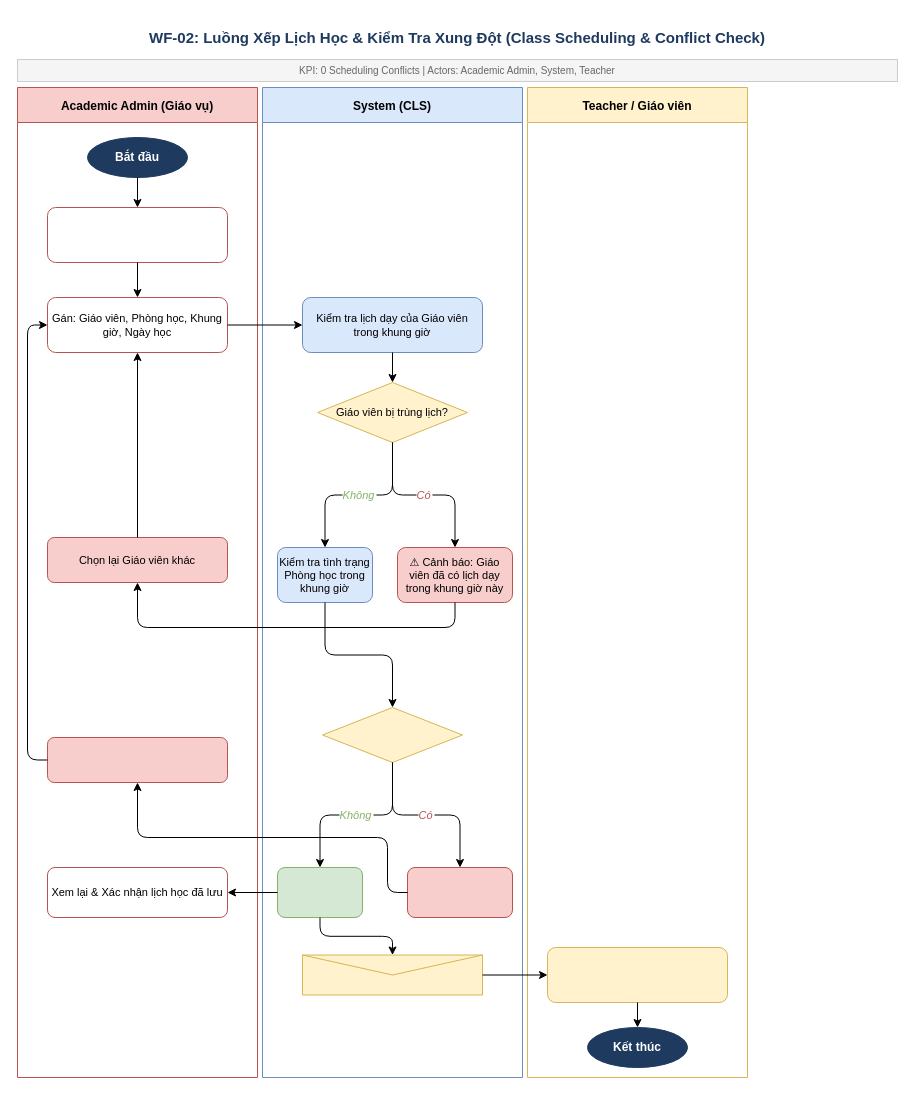
The diagram is 915 pixels wide and 1095 high, and some of its shapes have lost their labels. Here are the shapes that lost their labels. From the top down, the centre of each, then its label:
the point at 137,234: Tạo lớp học mới (tên lớp, môn học, khóa học)
the point at 392,734: Phòng học bị trùng?
the point at 137,759: Chọn lại Phòng học khác
the point at 319,892: ✅ Lưu lịch học vào DB (không xung đột)
the point at 459,892: ⚠ Cảnh báo: Phòng đã được đặt trong khung giờ này
the point at 392,974: Gửi thông báo lịch dạy tới Giáo viên (Email)
the point at 637,974: Nhận thông báo & Xem lịch dạy đã xác nhận
